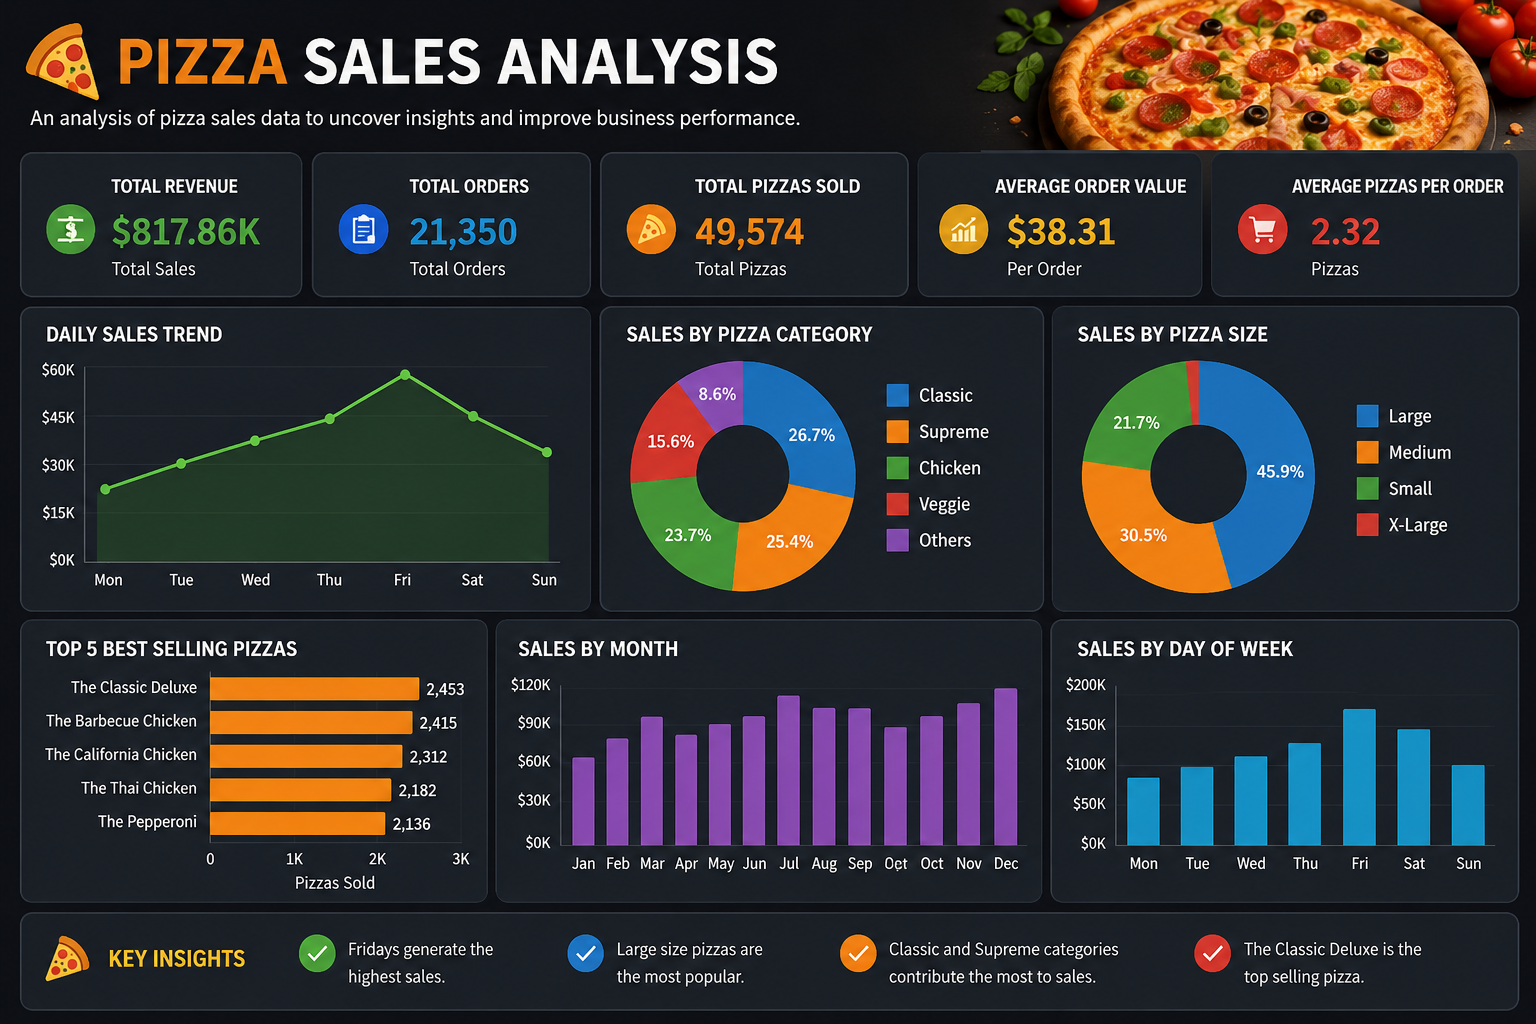

This screenshot's page, from the dashboard's own definition file:
{"tool":"powerbi","page":{"name":"Page 1","canvas":[1280,720],"ordinal":0},"visuals":[{"type":"image","box":[813.7,0,466.6,113.9],"z":0},{"type":"group","id":"g1","title":"Group 1","box":[6.4,205.5,104,429],"z":0,"group":"g8"},{"type":"shape","box":[6.4,205.5,104,429],"z":0,"group":"g1"},{"type":"shape","box":[117.1,205.7,452.9,196.4],"z":0,"group":"g6"},{"type":"shape","box":[576.7,205.8,354.2,196.7],"z":0,"group":"g3"},{"type":"shape","box":[937.4,206.3,337.5,196.9],"z":0,"group":"g2"},{"type":"shape","box":[117.1,408.6,384,225.9],"z":0,"group":"g7"},{"type":"shape","box":[507.1,408.6,345.5,225.9],"z":0,"group":"g5"},{"type":"shape","box":[859,410.2,416.2,226.8],"z":0,"group":"g4"},{"type":"shape","box":[0,0,813.7,113.9],"z":1000},{"type":"donutChart","title":"SALES BY PIZZA SIZE","fields":{"Category":["Pizza Data - Merged.Size"],"Y":["Sum(Pizza Data - Merged.Quantity)"]},"box":[948.3,211.1,318.3,182.8],"z":1000,"group":"g2"},{"type":"advancedSlicerVisual","fields":{"Values":["Pizza Data - Merged.Date.Variation.Date Hierarchy.Month"]},"box":[9.7,212.4,95.5,415.5],"z":1000,"group":"g8"},{"type":"lineChart","title":"DAILY SALES TREND","fields":{"Category":["Pizza Data - Merged.Day Number"],"Y":["Pizza Data - Merged.Total Revenue"]},"box":[124.1,212.6,439.6,185],"z":1000,"group":"g6"},{"type":"donutChart","title":"SALES BY PIZZA CATEGORY","fields":{"Y":["Sum(Pizza Data - Merged.Quantity)"],"Category":["Pizza Data - Merged.Category"]},"box":[581.2,212.7,343.6,182.2],"z":1000,"group":"g3"},{"type":"clusteredColumnChart","title":"SALES BY MONTH","fields":{"Y":["Pizza Data - Merged.Total Revenue"],"Category":["Pizza Data - Merged.New Month"]},"box":[869.9,414.6,396,219.4],"z":1000,"group":"g4"},{"type":"barChart","title":"TOP 5 BEST SELLING PIZZAS","fields":{"Category":["Pizza Data - Merged.Pizza Name"],"Y":["Pizza Data - Merged.Total Pizza Sold"]},"box":[123.1,415.2,372.8,212],"z":1000,"group":"g7"},{"type":"clusteredColumnChart","title":"SALES BY DAY OF WEEK","fields":{"Y":["Pizza Data - Merged.Total Revenue"],"Category":["Pizza Data - Merged.Day Number"]},"box":[512.5,415.2,335.4,212],"z":1000,"group":"g5"},{"type":"textbox","box":[0,0,772.6,113.9],"z":2000},{"type":"image","box":[57.1,12.9,85.7,67.1],"z":3000},{"type":"cardVisual","fields":{"Data":["Pizza Data - Merged.Total Revenue","Pizza Data - Merged.Total Orders","Pizza Data - Merged.Total Pizza Sold","Pizza Data - Merged.Avg Order Value","Avg(Pizza Data - Merged.Avg pizza per order)"]},"box":[8.8,113.8,1265,85],"z":4000},{"type":"image","box":[297.1,128.6,62.9,55.7],"z":5000},{"type":"image","box":[544.3,128.6,71.4,55.7],"z":6000},{"type":"image","box":[798.6,127.6,68.6,57.6],"z":7000},{"type":"image","box":[23.8,127.5,76.2,53.8],"z":8000},{"type":"image","box":[1058.6,127.1,85.7,54.3],"z":9000},{"type":"group","id":"g2","title":"Group 1","box":[937.4,206.3,336.6,196.6],"z":10000},{"type":"group","id":"g3","title":"Group 1","box":[576.7,205.8,354.2,196.7],"z":11000},{"type":"group","id":"g4","title":"Group 1","box":[859,410.2,416.2,226.8],"z":12000},{"type":"group","id":"g5","title":"Group 1","box":[507.1,408.6,345.7,225.7],"z":13000},{"type":"group","id":"g6","title":"Group 1","box":[117.1,205.7,452.9,196.4],"z":14000},{"type":"group","id":"g7","title":"Group 1","box":[117.1,408.6,384.3,225.7],"z":15000},{"type":"group","id":"g8","title":"Group 2","box":[6.4,205.5,104,429],"z":16000},{"type":"textbox","box":[6,643,1269,71],"z":17000},{"type":"image","box":[23.3,653.3,61.7,50],"z":18000},{"type":"textbox","box":[84.3,658.6,155.7,40],"z":19000},{"type":"image","box":[253.3,656.7,31.7,41.7],"z":20000},{"type":"textbox","box":[290,646.7,193.3,61.7],"z":21000},{"type":"image","box":[473.3,658.3,33.3,40],"z":22000},{"type":"textbox","box":[513.3,653.3,163.3,55],"z":23000},{"type":"image","box":[980,657.1,67.1,40],"z":24000},{"type":"textbox","box":[1037.1,650,188.6,54.3],"z":25000},{"type":"image","box":[680,661.4,41.4,37.1],"z":26000},{"type":"textbox","box":[721.4,652.9,241.4,54.3],"z":27000}]}

Visuals, with their boxes on the page's 1280x720 design canvas (x1, y1, x2, y2). These are canvas units, not pixel positions in the 1536x1024 screenshot, which may show the page scaled, cropped or inside an application window:
image: rect(814, 0, 1280, 114)
"Group 1" group: rect(6, 206, 110, 634)
shape: rect(6, 206, 110, 634)
shape: rect(117, 206, 570, 402)
shape: rect(577, 206, 931, 402)
shape: rect(937, 206, 1275, 403)
shape: rect(117, 409, 501, 634)
shape: rect(507, 409, 853, 634)
shape: rect(859, 410, 1275, 637)
shape: rect(0, 0, 814, 114)
"SALES BY PIZZA SIZE" donutChart: rect(948, 211, 1267, 394)
advancedSlicerVisual - Pizza Data - Merged.Date.Variation.Date Hierarchy.Month: rect(10, 212, 105, 628)
"DAILY SALES TREND" lineChart: rect(124, 213, 564, 398)
"SALES BY PIZZA CATEGORY" donutChart: rect(581, 213, 925, 395)
"SALES BY MONTH" clusteredColumnChart: rect(870, 415, 1266, 634)
"TOP 5 BEST SELLING PIZZAS" barChart: rect(123, 415, 496, 627)
"SALES BY DAY OF WEEK" clusteredColumnChart: rect(512, 415, 848, 627)
textbox: rect(0, 0, 773, 114)
image: rect(57, 13, 143, 80)
cardVisual - Pizza Data - Merged.Total Revenue x Pizza Data - Merged.Total Orders: rect(9, 114, 1274, 199)
image: rect(297, 129, 360, 184)
image: rect(544, 129, 616, 184)
image: rect(799, 128, 867, 185)
image: rect(24, 128, 100, 181)
image: rect(1059, 127, 1144, 181)
"Group 1" group: rect(937, 206, 1274, 403)
"Group 1" group: rect(577, 206, 931, 402)
"Group 1" group: rect(859, 410, 1275, 637)
"Group 1" group: rect(507, 409, 853, 634)
"Group 1" group: rect(117, 206, 570, 402)
"Group 1" group: rect(117, 409, 501, 634)
"Group 2" group: rect(6, 206, 110, 634)
textbox: rect(6, 643, 1275, 714)
image: rect(23, 653, 85, 703)
textbox: rect(84, 659, 240, 699)
image: rect(253, 657, 285, 698)
textbox: rect(290, 647, 483, 708)
image: rect(473, 658, 507, 698)
textbox: rect(513, 653, 677, 708)
image: rect(980, 657, 1047, 697)
textbox: rect(1037, 650, 1226, 704)
image: rect(680, 661, 721, 698)
textbox: rect(721, 653, 963, 707)
